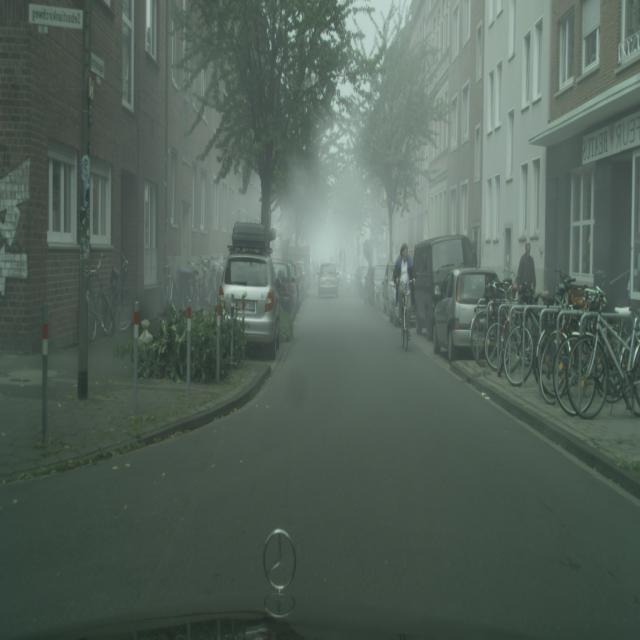bicycle: (411, 233, 478, 337)
bus: (411, 233, 476, 338), (221, 252, 281, 359), (433, 267, 501, 361), (272, 260, 300, 323), (382, 261, 397, 320), (364, 266, 383, 308), (318, 264, 338, 298), (295, 259, 309, 301), (363, 267, 377, 307), (354, 266, 369, 298), (343, 266, 354, 287)
car: (567, 294, 640, 419), (537, 280, 599, 406), (503, 278, 572, 388), (503, 293, 547, 387), (88, 257, 116, 342), (111, 251, 132, 331), (398, 243, 412, 349)
person: (515, 241, 536, 297)
